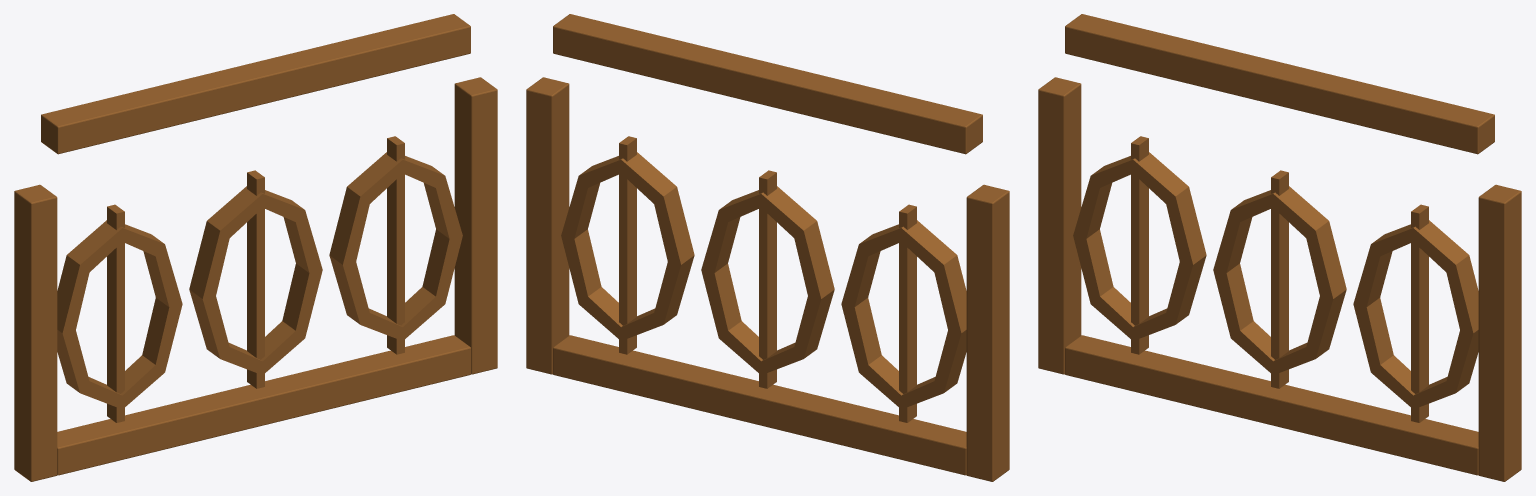
File: source-edit.glb
3 renders of one model, left to right at view 1: azimuth 30°, elevation 25°; view 2: azimuth 150°, elevation 25°; view 3: azimuth 330°, elevation 25°, orthographic.
Visible parts, largest first — view 1: PANEL_TopRail, PANEL_BottomRail, PANEL_Stile, PANEL_Stile.001, CARVE_Stem.001, CARVE_Stem.002, CARVE_Stem, CARVE_Petal.012, CARVE_Petal.020, CARVE_Petal.004, CARVE_Petal.016, CARVE_Petal (+19 smaller); view 2: PANEL_TopRail, PANEL_BottomRail, PANEL_Stile, PANEL_Stile.001, CARVE_Stem.001, CARVE_Stem.002, CARVE_Stem, CARVE_Petal.012, CARVE_Petal.020, CARVE_Petal.004, CARVE_Petal.016, CARVE_Petal (+19 smaller); view 3: PANEL_TopRail, PANEL_BottomRail, PANEL_Stile.001, PANEL_Stile, CARVE_Stem, CARVE_Stem.002, CARVE_Stem.001, CARVE_Petal.009, CARVE_Petal.001, CARVE_Petal.017, CARVE_Petal.005, CARVE_Petal.013 (+19 smaller).
Part boxes in pixels (box(x1,y1,x2,y2)): PANEL_TopRail: box(41, 14, 470, 154); PANEL_BottomRail: box(57, 335, 470, 475); PANEL_Stile: box(14, 184, 57, 481); PANEL_Stile.001: box(454, 77, 497, 374); CARVE_Stem.001: box(107, 204, 124, 422); CARVE_Stem.002: box(247, 170, 264, 388); CARVE_Stem: box(387, 136, 404, 354); CARVE_Petal.012: box(189, 221, 229, 298); CARVE_Petal.020: box(329, 187, 369, 264); CARVE_Petal.004: box(57, 255, 89, 333); CARVE_Petal.016: box(282, 263, 322, 337); CARVE_Petal: box(422, 229, 462, 303); PANEL_TopRail: box(553, 14, 982, 154); PANEL_BottomRail: box(553, 335, 966, 475); PANEL_Stile: box(966, 184, 1009, 481); PANEL_Stile.001: box(526, 77, 569, 374); CARVE_Stem.001: box(899, 204, 916, 422); CARVE_Stem.002: box(759, 170, 776, 388); CARVE_Stem: box(619, 136, 636, 354); CARVE_Petal.012: box(794, 221, 834, 298); CARVE_Petal.020: box(654, 187, 694, 264); CARVE_Petal.004: box(934, 255, 966, 333); CARVE_Petal.016: box(701, 263, 741, 337); CARVE_Petal: box(561, 229, 601, 303); PANEL_TopRail: box(1065, 14, 1494, 154); PANEL_BottomRail: box(1065, 335, 1478, 475); PANEL_Stile.001: box(1478, 184, 1521, 481); PANEL_Stile: box(1038, 77, 1081, 374); CARVE_Stem: box(1411, 204, 1428, 422); CARVE_Stem.002: box(1271, 170, 1288, 388); CARVE_Stem.001: box(1131, 136, 1148, 354); CARVE_Petal.009: box(1306, 221, 1346, 298); CARVE_Petal.001: box(1166, 187, 1206, 264); CARVE_Petal.017: box(1446, 255, 1478, 333); CARVE_Petal.005: box(1073, 229, 1113, 303); CARVE_Petal.013: box(1213, 263, 1253, 337).
Size of the model in its own units: 1.4 by 1 by 0.09.
